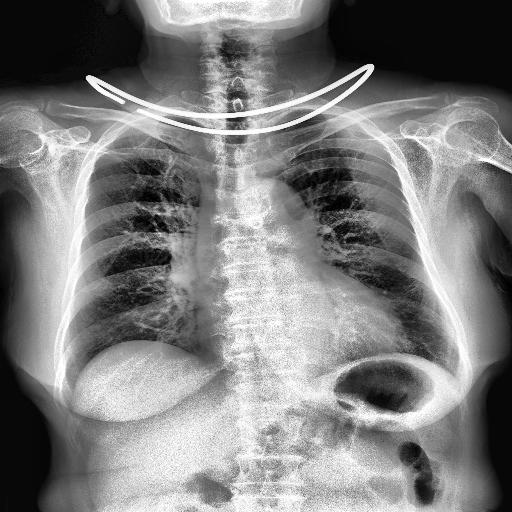0- Aortic enlargement: (239, 176, 317, 254), (236, 177, 314, 241), (250, 177, 316, 237)
13- Pulmonary fibrosis: (138, 322, 181, 337)
3- Cardiomegaly: (193, 302, 408, 372), (196, 306, 410, 376)
